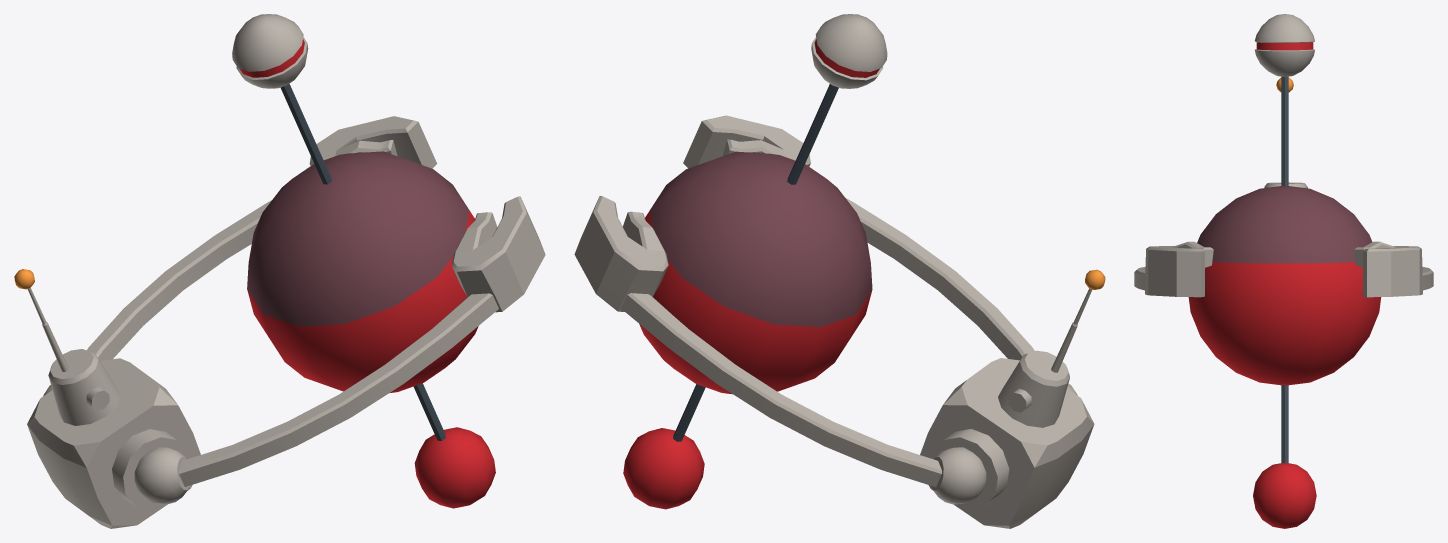
Rendered from Tech_Planet_Robot_Hug.fbx.
The picture shows the model from 3 angles, left to right: view 1: azimuth 30°, elevation 25°; view 2: azimuth 150°, elevation 25°; view 3: azimuth 270°, elevation 25°; orthographic projection. The views are drawn at different scales.
Visible parts, largest first — view 1: Planet_RobotHug_Mesh; view 2: Planet_RobotHug_Mesh; view 3: Planet_RobotHug_Mesh.
Part boxes in pixels (x1,y1,x2,y2): Planet_RobotHug_Mesh: (14,14,545,528); Planet_RobotHug_Mesh: (574,14,1105,528); Planet_RobotHug_Mesh: (1134,14,1433,528).
Size of the model in its own units: 6.37 by 6.84 by 4.26.
